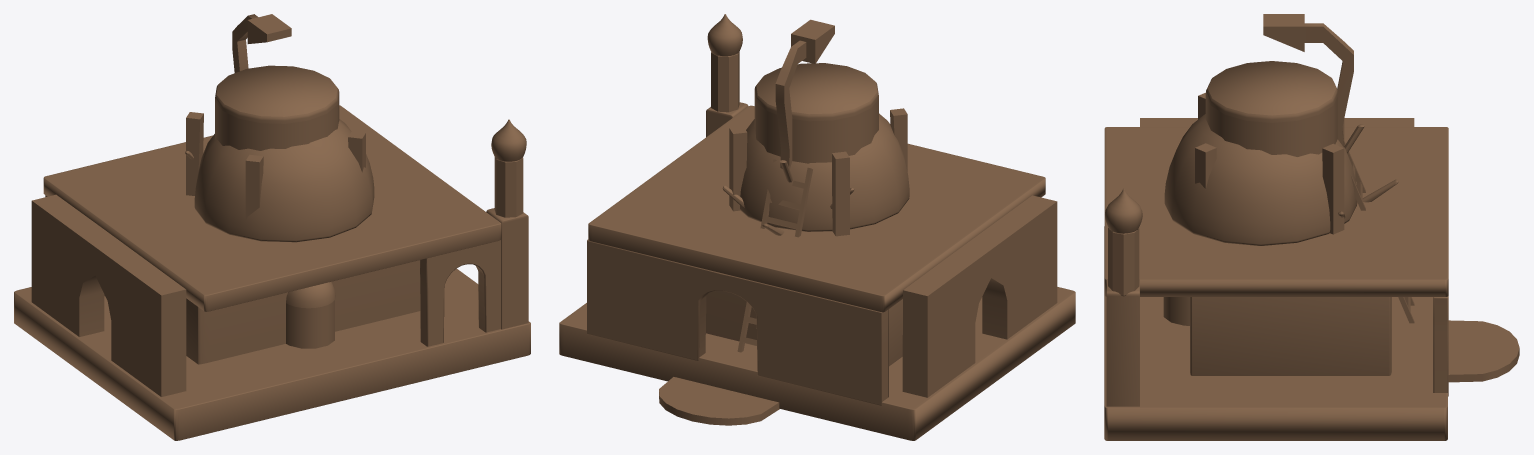
The model's file is Models01.fbx.
The picture shows the model from 3 angles, left to right: view 1: azimuth 30°, elevation 25°; view 2: azimuth 150°, elevation 25°; view 3: azimuth 270°, elevation 25°; orthographic projection. The views are drawn at different scales.
Parts seen in each view (by area): view 1: roof, base, door_3, tomb, inner_part, stack_3, bridge_6, half_rect_5, tank_stand, road_light, base_9, low_stack_2 (+3 smaller); view 2: roof, bridge_7, base, door_3, tomb, stack_3, round_stairs2, tank_stand, road_light, inner_part, base_9, water_tank_stairs (+3 smaller); view 3: roof, base, inner_part, tomb, stack_3, half_rect_5, round_stairs2, road_light, tank_stand, base_9, bridge_7, top_round_2 (+3 smaller).
Boxes of the visible parts, <box> form: roof: <box>43,105,501,311</box>; base: <box>14,268,530,440</box>; door_3: <box>31,194,186,396</box>; tomb: <box>194,119,374,242</box>; inner_part: <box>104,260,420,364</box>; stack_3: <box>215,65,339,150</box>; bridge_6: <box>420,240,500,346</box>; half_rect_5: <box>486,208,528,329</box>; tank_stand: <box>186,112,365,219</box>; road_light: <box>232,14,291,72</box>; base_9: <box>494,157,523,217</box>; low_stack_2: <box>286,300,334,337</box>; roof: <box>588,105,1045,312</box>; bridge_7: <box>587,239,888,405</box>; base: <box>559,287,1075,440</box>; door_3: <box>902,195,1057,397</box>; tomb: <box>740,113,909,231</box>; stack_3: <box>754,63,878,163</box>; round_stairs2: <box>659,377,779,425</box>; tank_stand: <box>729,108,907,236</box>; road_light: <box>775,19,834,169</box>; inner_part: <box>706,291,902,366</box>; base_9: <box>711,51,739,112</box>; water_tank_stairs: <box>737,159,812,352</box>; roof: <box>1104,127,1448,296</box>; base: <box>1104,226,1447,440</box>; inner_part: <box>1190,297,1391,375</box>; tomb: <box>1164,114,1357,245</box>; stack_3: <box>1205,61,1337,156</box>; half_rect_5: <box>1106,279,1139,406</box>; round_stairs2: <box>1448,320,1519,382</box>; road_light: <box>1263,14,1353,147</box>; tank_stand: <box>1195,93,1344,234</box>; base_9: <box>1108,228,1139,296</box>; bridge_7: <box>1433,296,1448,396</box>; top_round_2: <box>1104,188,1142,233</box>.
Size of the model in its own units: 342 by 287 by 325.
